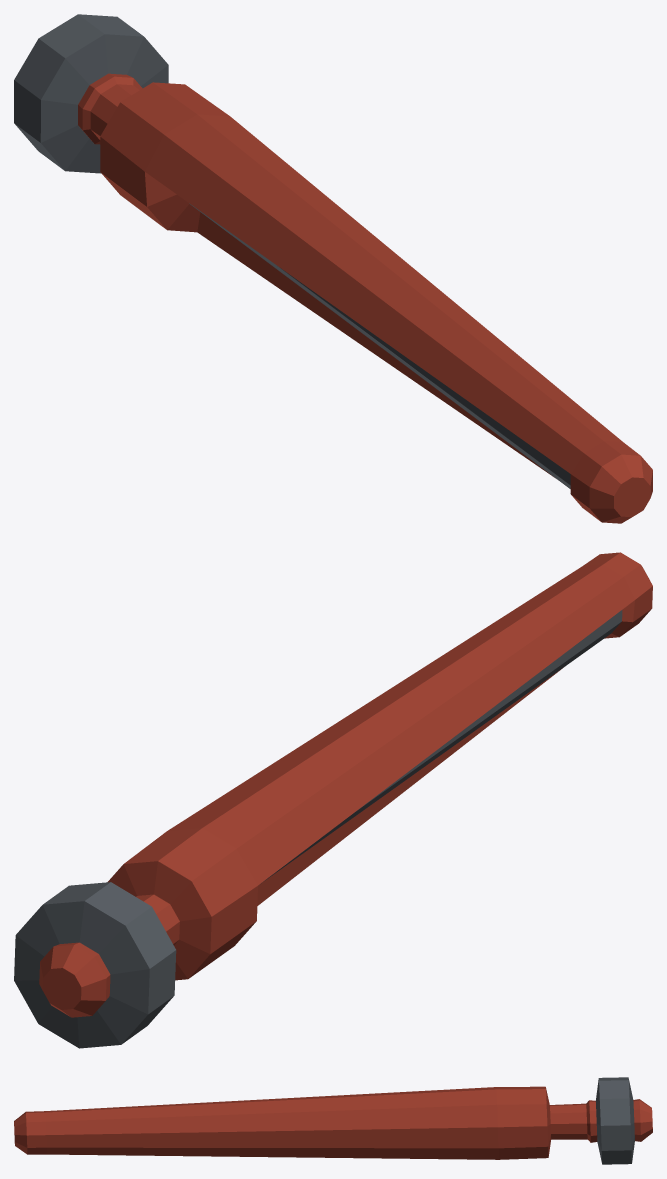
The model's file is Fighter_07_MiniGun_Red.fbx.
3 views of the same model, one above another, from view 1: azimuth 30°, elevation 25°; view 2: azimuth 150°, elevation 25°; view 3: azimuth 270°, elevation 25° (orthographic). The views are drawn at different scales.
Visible parts, largest first — view 1: Fighter_07_MiniGun_Red; view 2: Fighter_07_MiniGun_Red; view 3: Fighter_07_MiniGun_Red.
Boxes of the visible parts, x1,y1,x2,y2 form: Fighter_07_MiniGun_Red: [14, 14, 652, 523]; Fighter_07_MiniGun_Red: [14, 552, 652, 1048]; Fighter_07_MiniGun_Red: [14, 1077, 652, 1164].
Bounding box in the file's own units: 61.54 × 64.42 × 461.
2 materials, 2 textured.
